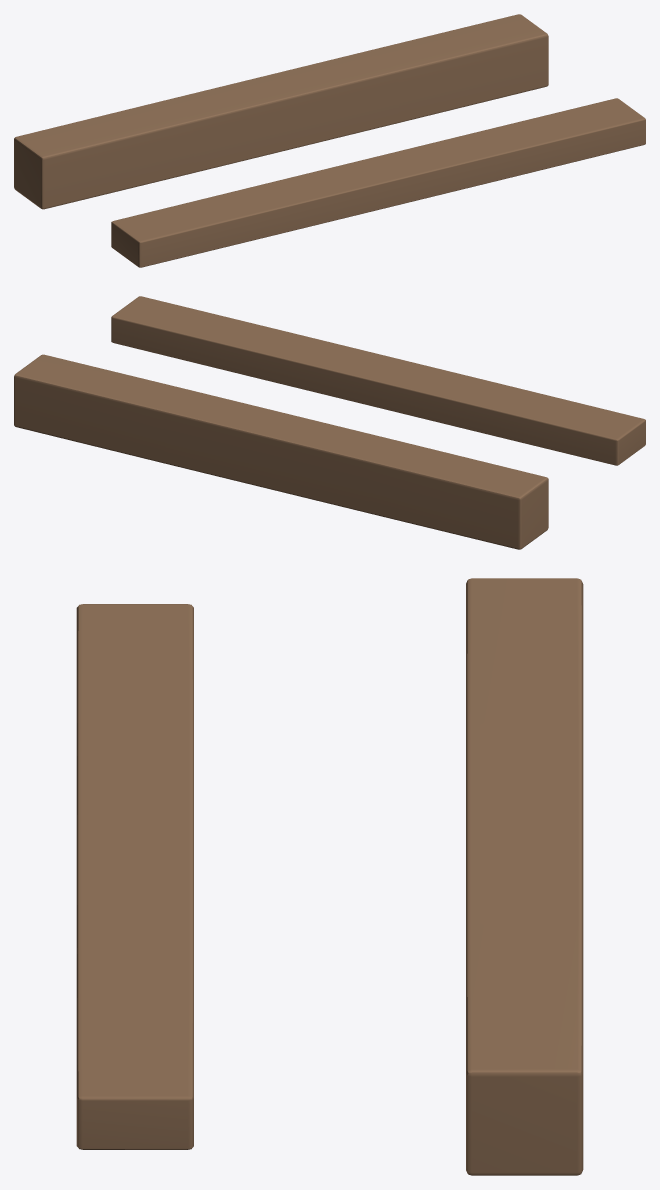
Rendered from PlanksV1.fbx.
3 views of the same model, one above another, from view 1: azimuth 30°, elevation 25°; view 2: azimuth 150°, elevation 25°; view 3: azimuth 270°, elevation 25° (orthographic). The views are drawn at different scales.
Parts seen in each view (by area): view 1: Plank_A_M, Plank_A_L, Plank_A_R, Plank_B_M, Plank_B_L, Plank_B_R; view 2: Plank_A_M, Plank_A_L, Plank_A_R, Plank_B_M, Plank_B_L, Plank_B_R; view 3: Plank_A_R, Plank_B_R, Plank_A_M, Plank_B_M, Plank_B_L, Plank_A_L.
Boxes of the visible parts, left/top/right/bottom form: Plank_A_M: left=166, top=50, right=397, bottom=172; Plank_A_L: left=14, top=100, right=194, bottom=209; Plank_A_R: left=369, top=14, right=548, bottom=123; Plank_B_M: left=263, top=135, right=494, bottom=230; Plank_B_L: left=111, top=184, right=291, bottom=267; Plank_B_R: left=466, top=98, right=645, bottom=181; Plank_A_M: left=165, top=391, right=396, bottom=513; Plank_A_L: left=368, top=440, right=548, bottom=549; Plank_A_R: left=14, top=354, right=192, bottom=463; Plank_B_M: left=262, top=333, right=493, bottom=428; Plank_B_L: left=465, top=382, right=645, bottom=465; Plank_B_R: left=111, top=296, right=290, bottom=379; Plank_A_R: left=466, top=923, right=583, bottom=1175; Plank_B_R: left=76, top=949, right=193, bottom=1149; Plank_A_M: left=466, top=724, right=583, bottom=926; Plank_B_M: left=76, top=751, right=193, bottom=951; Plank_B_L: left=76, top=604, right=193, bottom=753; Plank_A_L: left=466, top=578, right=583, bottom=728.
Bounding box in the file's own units: 3 × 0.3 × 1.3.
